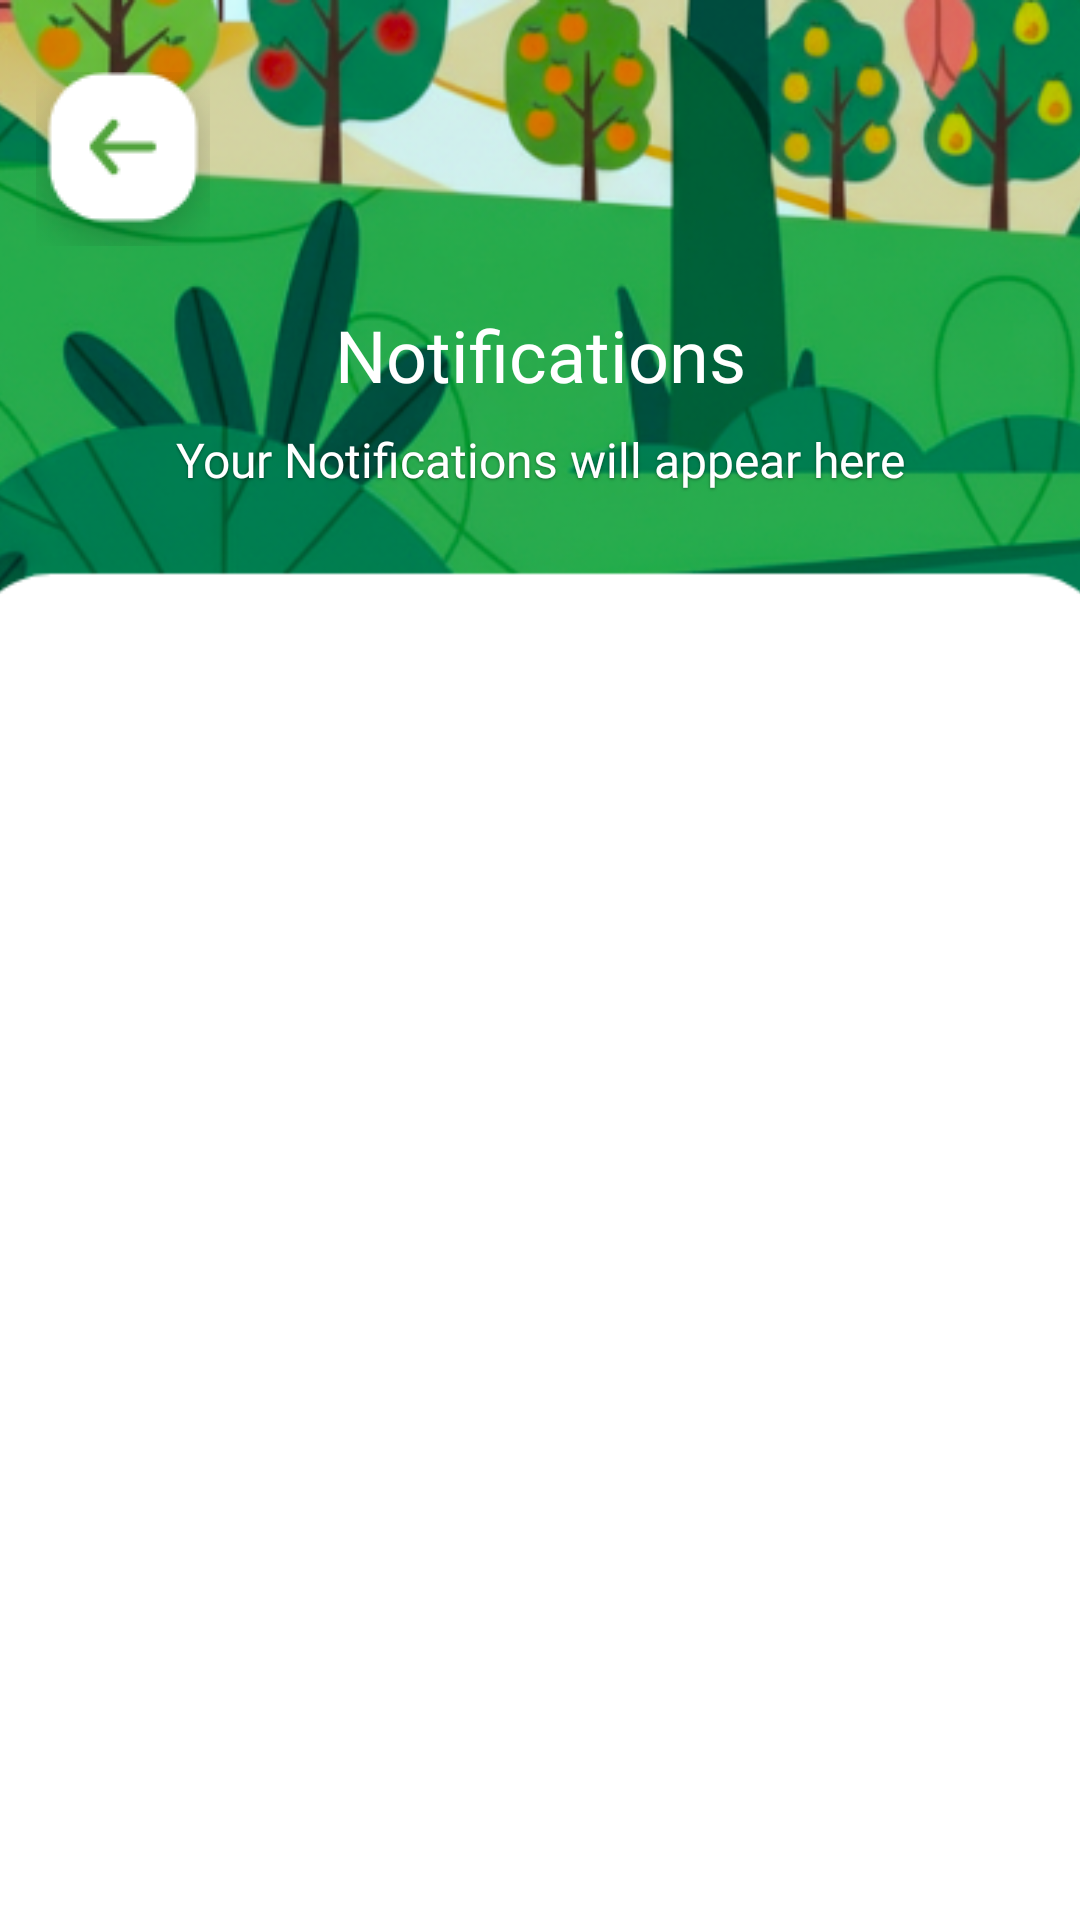

Icons on this 1080x1920 Android screen, each with the point to tap as [x,y]:
Back: [123,159]
